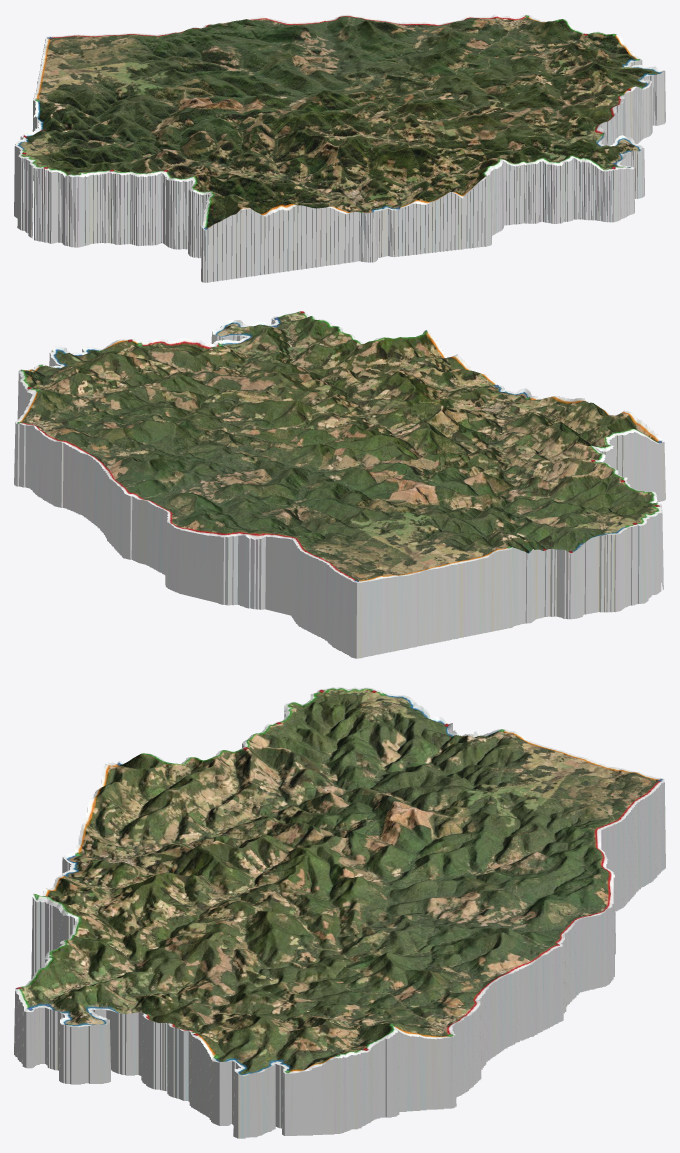
3 views of the same model, one above another, from view 1: azimuth 30°, elevation 25°; view 2: azimuth 150°, elevation 25°; view 3: azimuth 270°, elevation 25° (orthographic). The views are drawn at different scales.
Bounding box in the file's own units: 1 × 0.1169 × 0.7608.
1 material, 1 textured.
